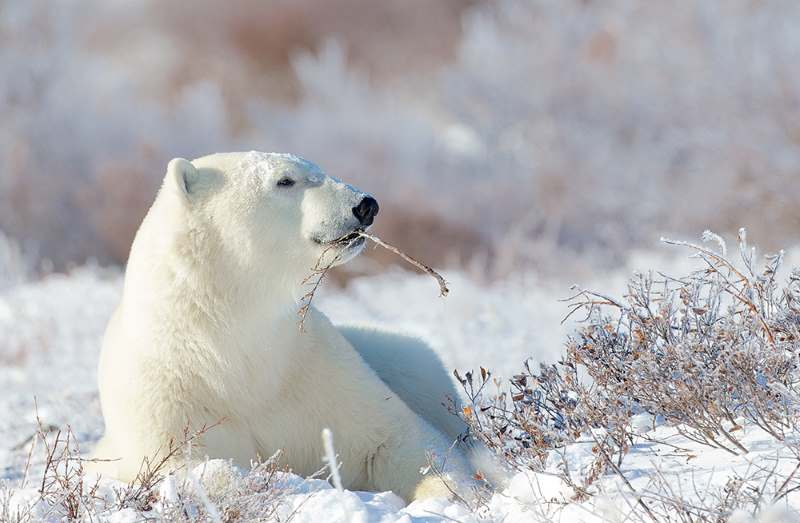Polar Bear: (71, 79, 491, 523)
